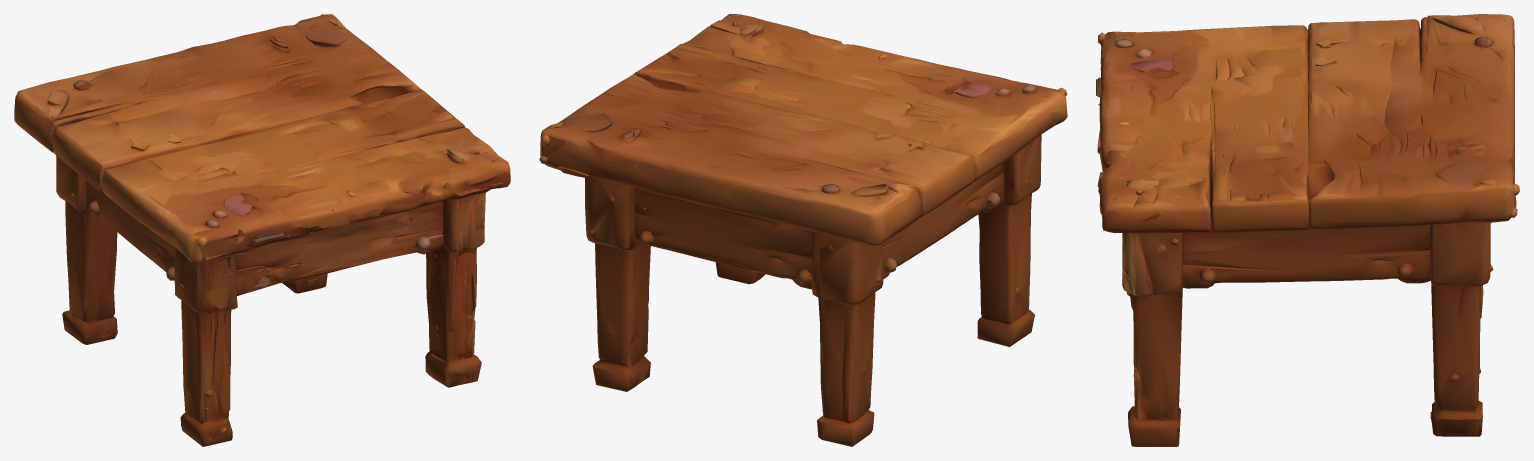
File: table_idle.glb
3 views of the same model, side by side, from view 1: azimuth 30°, elevation 25°; view 2: azimuth 150°, elevation 25°; view 3: azimuth 270°, elevation 25° (orthographic). The views are drawn at different scales.
Visible parts, largest first — view 1: tripo_node_0ee2718d-75e4-42de-b450-8d22175b1b11; view 2: tripo_node_0ee2718d-75e4-42de-b450-8d22175b1b11; view 3: tripo_node_0ee2718d-75e4-42de-b450-8d22175b1b11.
Boxes of the visible parts, box(x1,y1,x2,y2) form: tripo_node_0ee2718d-75e4-42de-b450-8d22175b1b11: box(14, 14, 510, 446); tripo_node_0ee2718d-75e4-42de-b450-8d22175b1b11: box(539, 14, 1067, 446); tripo_node_0ee2718d-75e4-42de-b450-8d22175b1b11: box(1096, 14, 1519, 446).
Size of the model in its own units: 1.04 by 0.7504 by 1.04.
1 material, 1 textured.
